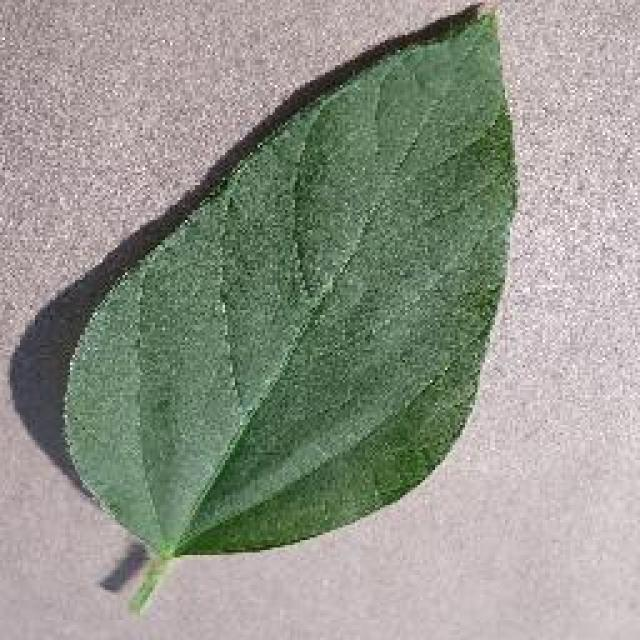Soy_healthy: (74, 81, 476, 523)
